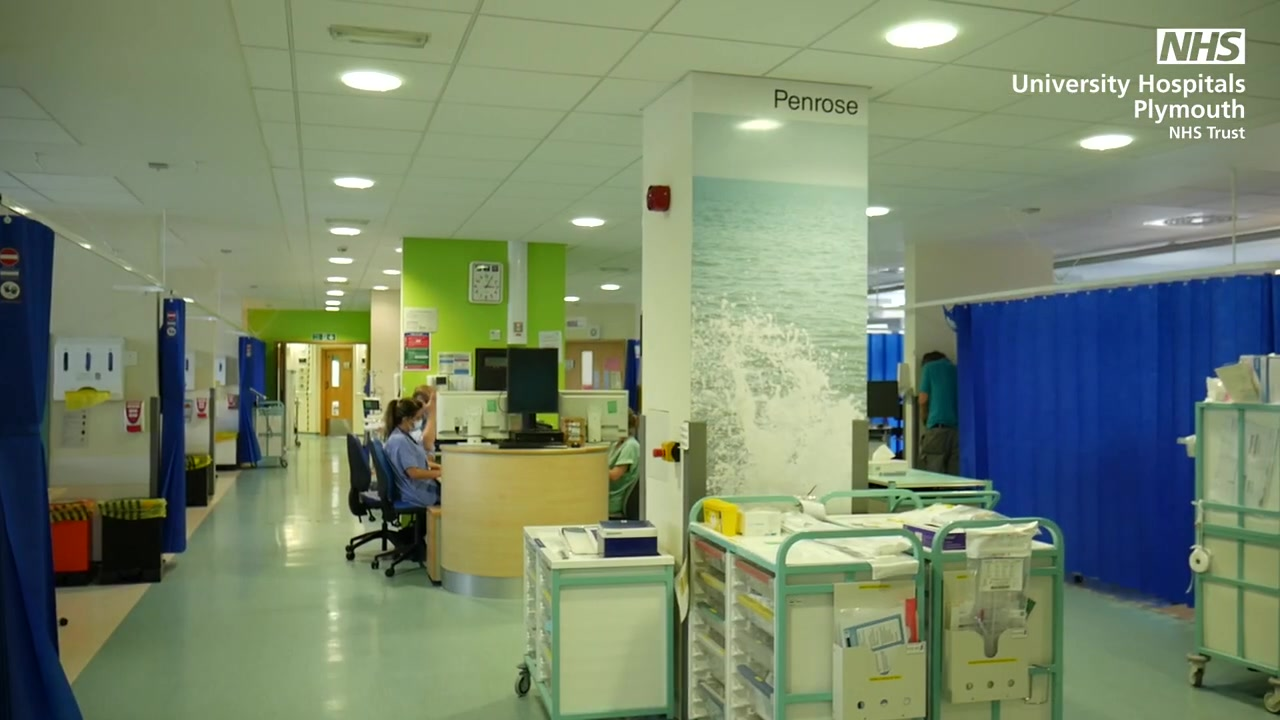chair: (371, 436, 428, 577), (343, 432, 400, 561)
computer: (558, 390, 631, 442), (436, 391, 510, 441), (506, 347, 560, 413), (868, 381, 900, 416)
counter: (437, 442, 611, 596)
curtain: (947, 275, 1280, 611), (1, 210, 82, 720), (159, 296, 190, 552), (865, 333, 906, 452), (238, 335, 267, 460), (623, 338, 640, 407)
dispenser: (55, 337, 124, 402), (124, 399, 145, 432), (196, 396, 208, 419)
medical_drawer: (817, 485, 1062, 720), (680, 493, 931, 720), (511, 520, 675, 720)
staff: (386, 399, 441, 507), (918, 351, 957, 474), (606, 423, 640, 513), (408, 385, 437, 469)
utility_cart: (253, 400, 288, 468)
waste_bin: (98, 497, 168, 583), (184, 454, 211, 506)
